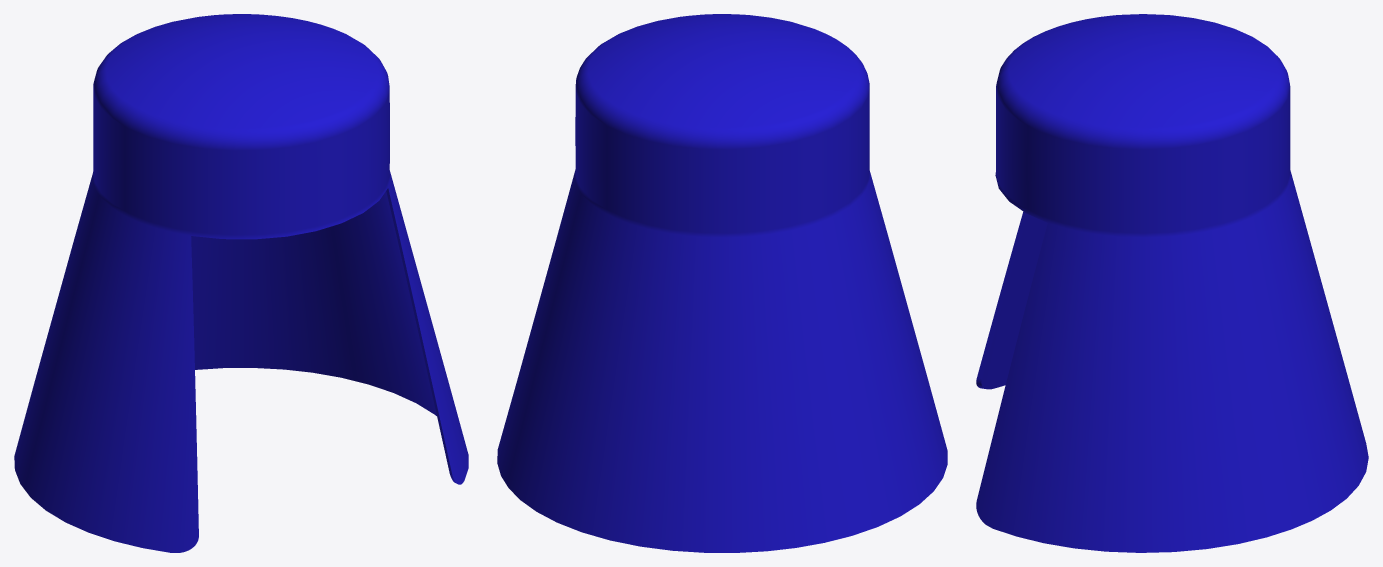
The model's file is Touca de proteçao.fbx.
3 renders of one model, left to right at view 1: azimuth 30°, elevation 25°; view 2: azimuth 150°, elevation 25°; view 3: azimuth 270°, elevation 25°, orthographic.
Visible parts, largest first — view 1: Body1; view 2: Body1; view 3: Body1.
Boxes of the visible parts, x1,y1,x2,y2 form: Body1: (14, 14, 468, 552); Body1: (497, 14, 947, 552); Body1: (976, 14, 1368, 552).
Size of the model in its own units: 23 by 23.05 by 20.01.
